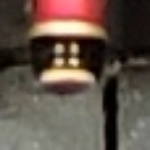bottle: (18, 14, 124, 113)
